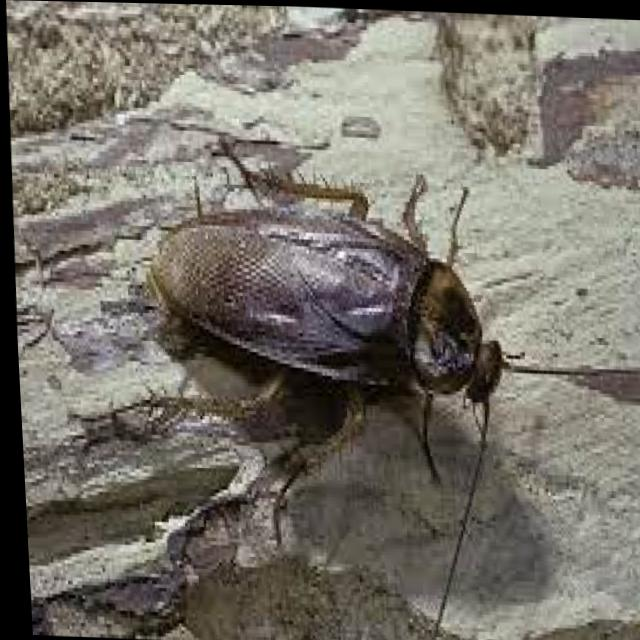Cockroach: (116, 116, 640, 640)
